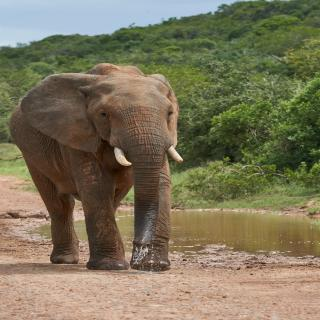Elephant: (16, 60, 191, 276)
